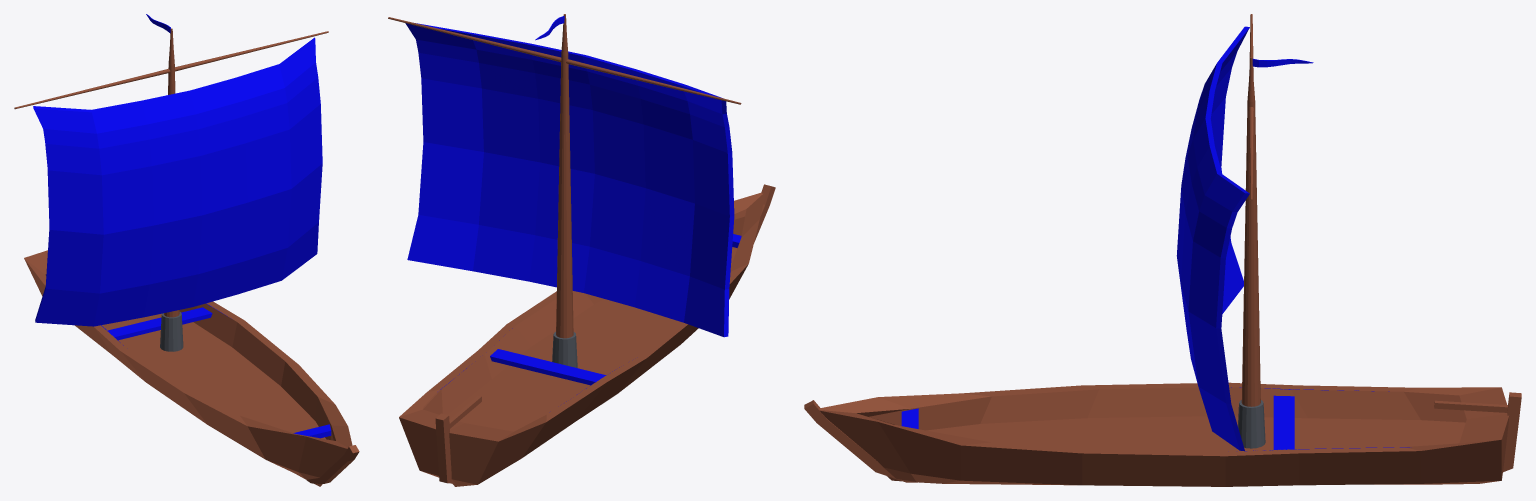
Rendered from blue boat.fbx.
3 views of the same model, side by side, from view 1: azimuth 30°, elevation 25°; view 2: azimuth 150°, elevation 25°; view 3: azimuth 270°, elevation 25° (orthographic). The views are drawn at different scales.
Visible parts, largest first — view 1: Kreis; view 2: Kreis; view 3: Kreis.
Part boxes in pixels (<box>): Kreis: <box>14,14,359,486</box>; Kreis: <box>388,14,775,486</box>; Kreis: <box>804,14,1521,486</box>.
Size of the model in its own units: 1400 by 1490 by 2291.
